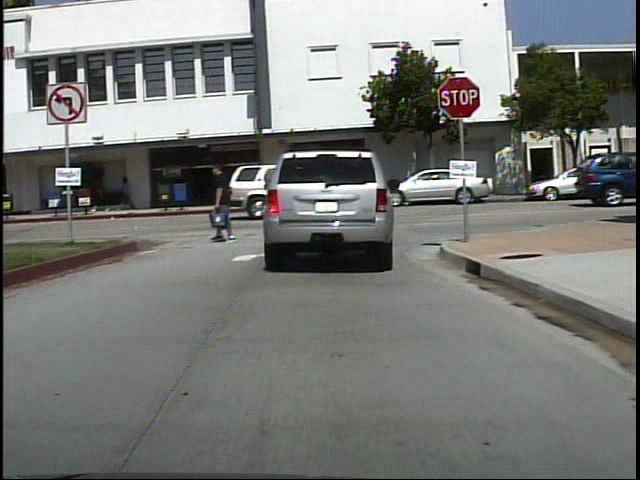person: (206, 159, 245, 244), (90, 172, 112, 212), (121, 172, 140, 211)
